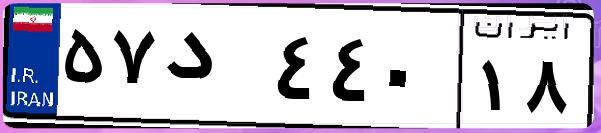0: (385, 28, 445, 110)
1: (475, 38, 525, 113)
4: (270, 28, 330, 110), (330, 28, 385, 110)
5: (57, 26, 110, 100)
7: (110, 28, 158, 98)
8: (525, 38, 570, 115)
د: (158, 20, 270, 120)
